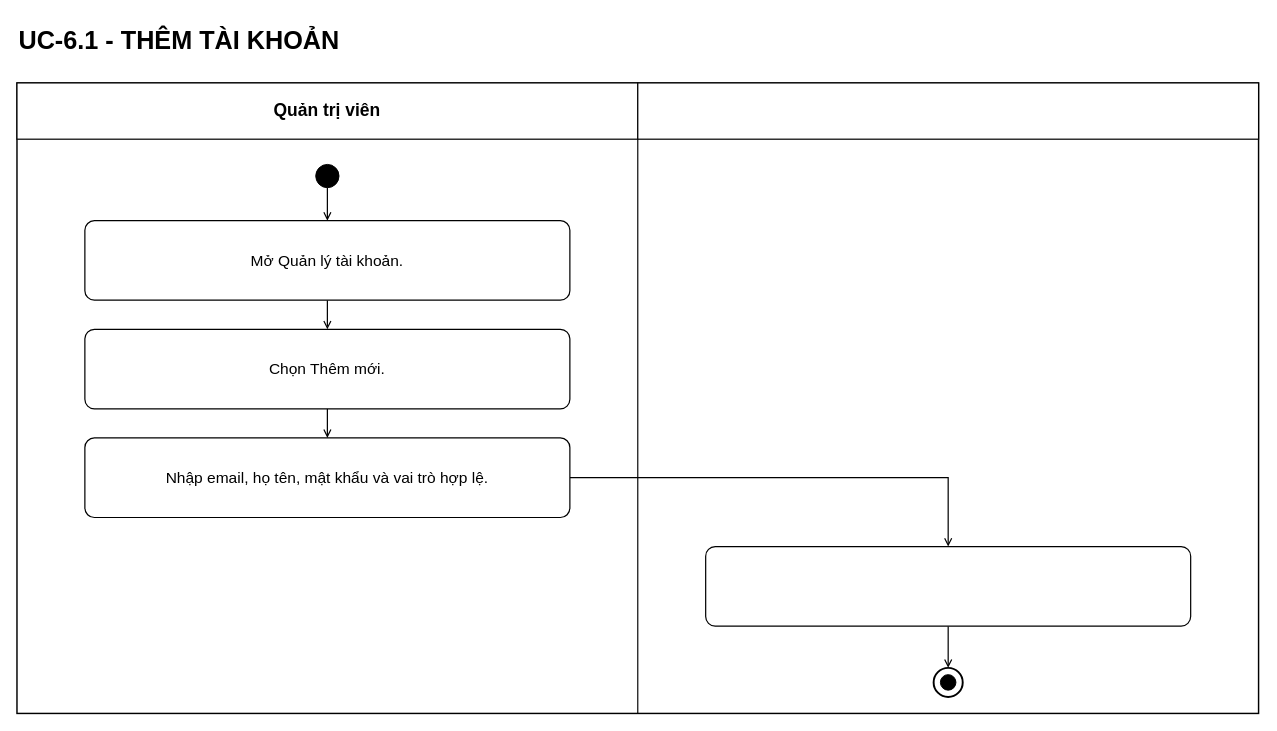
Some shapes in this 1277 by 731 pixel diagram are drawn without their labels. Each missing label, with the box of its shape:
Backend kiểm tra trùng email, băm mật khẩu và lưu tài khoản.: (705, 546, 1191, 626)
Hệ thống ShoeGroup: (637, 82, 1259, 139)
